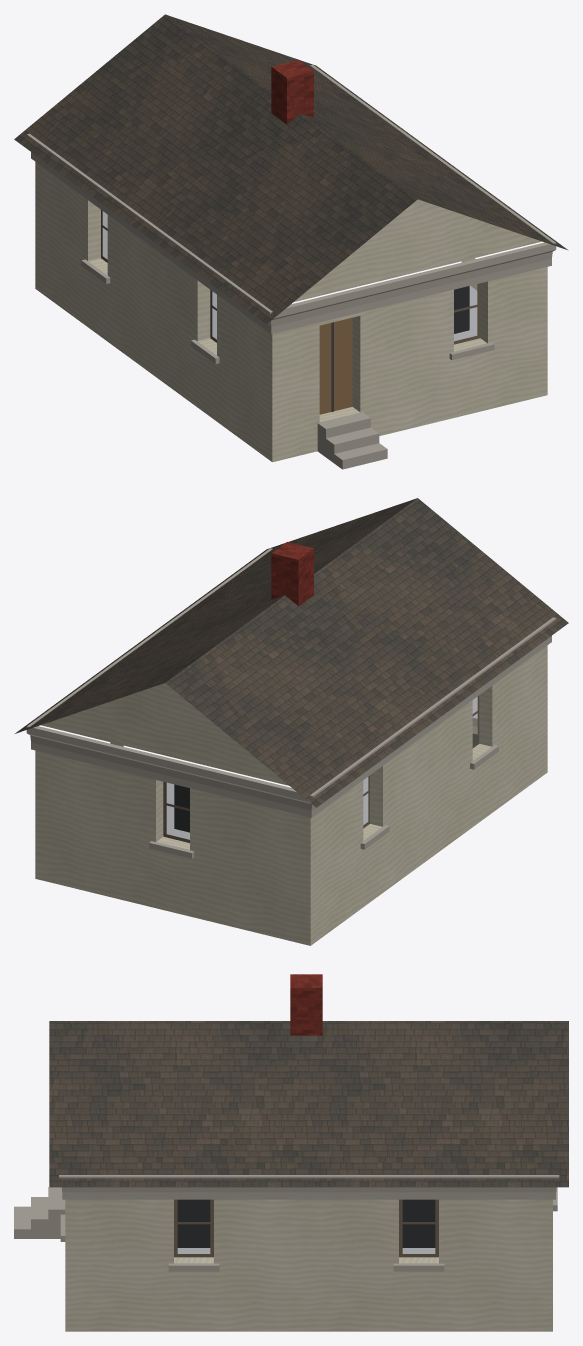
File: sullivan_house_1871__house_1871.glb
3 views of the same model, one above another, from view 1: azimuth 30°, elevation 25°; view 2: azimuth 150°, elevation 25°; view 3: azimuth 270°, elevation 25° (orthographic). The views are drawn at different scales.
Visible parts, largest first — view 1: sullivan_house_1871__house_1871; view 2: sullivan_house_1871__house_1871; view 3: sullivan_house_1871__house_1871.
Part boxes in pixels (left/top/right/bottom): sullivan_house_1871__house_1871: left=14, top=14, right=568, bottom=469; sullivan_house_1871__house_1871: left=15, top=498, right=568, bottom=945; sullivan_house_1871__house_1871: left=14, top=974, right=568, bottom=1331.
Bounding box in the file's own units: 6.7 × 5.8 × 10.36.
Materials: 9 (3 with a texture image).
